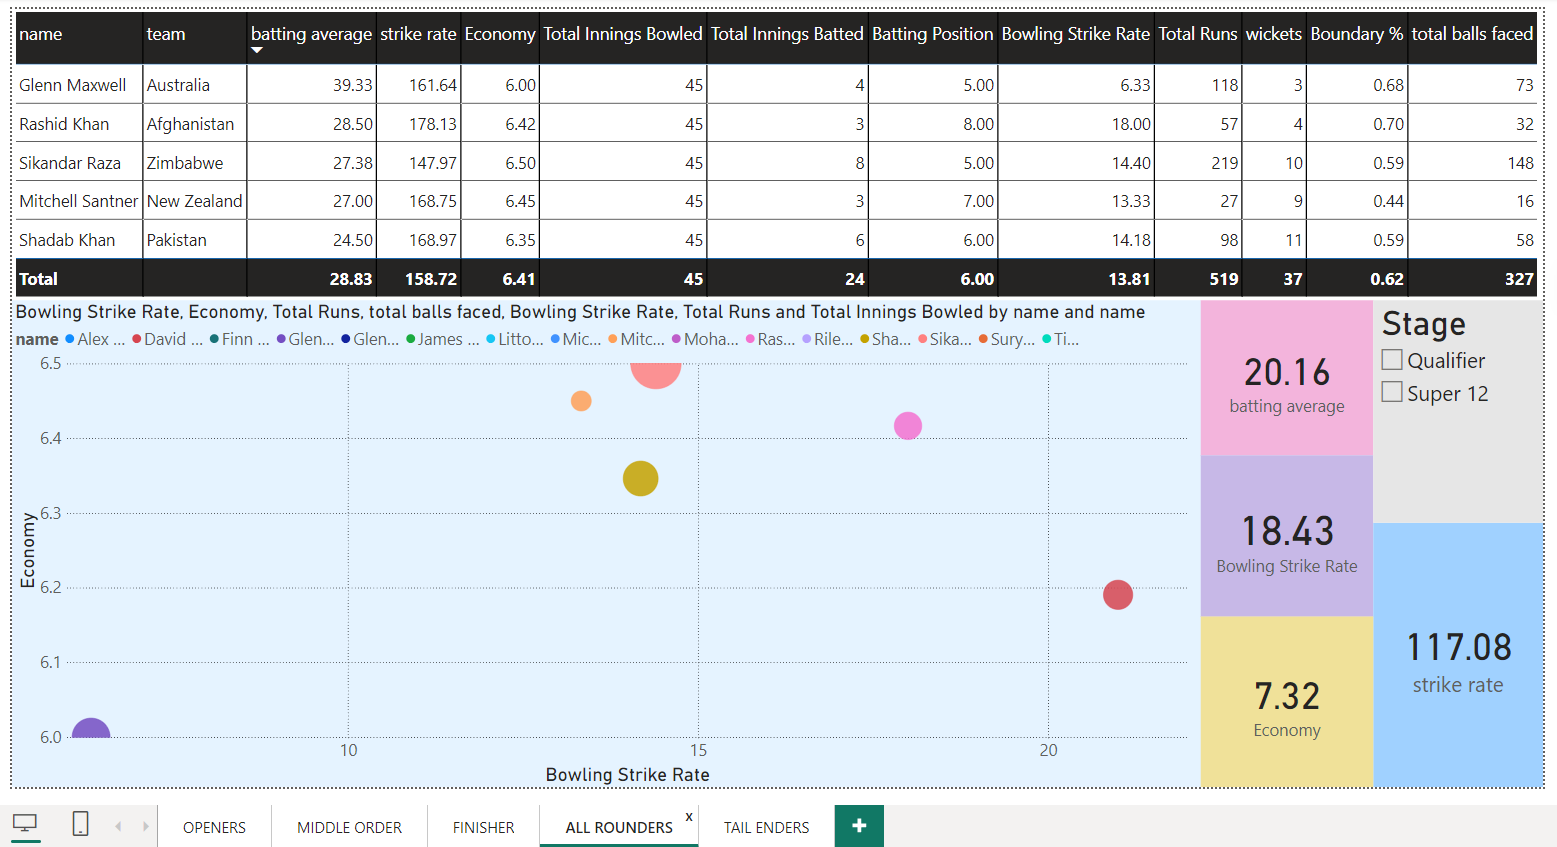

The page's visual inventory and layout, read from the dashboard file:
{"tool":"powerbi","page":{"name":"ALL ROUNDERS","canvas":[2450,1245],"ordinal":3},"visuals":[{"type":"tableEx","fields":{"Values":["player summary.name","player summary.team","Key Measure.batting average","Key Measure.strike rate","Key Measure.Economy","Key Measure.Total Innings Bowled","Key Measure.Total Innings Batted","Key Measure.Batting Position","Key Measure.Bowling Strike Rate","Key Measure.Total Runs","Key Measure.wickets","Key Measure.Boundary %"]},"box":[0,0,2450,466],"z":0},{"type":"scatterChart","fields":{"Category":["player summary.name"],"Y":["Key Measure.Economy"],"X":["Key Measure.Bowling Strike Rate"],"Series":["player summary.name"],"Size":["Key Measure.Total Runs"]},"box":[0,466,1902,780],"z":1000},{"type":"card","fields":{"Values":["Key Measure.batting average"]},"box":[1902,466,276,248],"z":2000},{"type":"card","fields":{"Values":["Key Measure.Bowling Strike Rate"]},"box":[1902,714,276,258],"z":3000},{"type":"card","fields":{"Values":["Key Measure.strike rate"]},"box":[2178,822,272,424],"z":4000},{"type":"card","fields":{"Values":["Key Measure.Economy"]},"box":[1902,972,276,274],"z":5000},{"type":"slicer","fields":{"Values":["match summary.Stage"]},"box":[2178,466,272,356],"z":6000}]}

Visuals, with their boxes on the page's 2450x1245 design canvas (x1, y1, x2, y2). These are canvas units, not pixel positions in the 1557x847 screenshot, which may show the page scaled, cropped or inside an application window:
tableEx - player summary.name x player summary.team: pyautogui.locateOnScreen(0, 0, 2450, 466)
scatterChart - player summary.name x Key Measure.Economy: pyautogui.locateOnScreen(0, 466, 1902, 1246)
card - Key Measure.batting average: pyautogui.locateOnScreen(1902, 466, 2178, 714)
card - Key Measure.Bowling Strike Rate: pyautogui.locateOnScreen(1902, 714, 2178, 972)
card - Key Measure.strike rate: pyautogui.locateOnScreen(2178, 822, 2450, 1246)
card - Key Measure.Economy: pyautogui.locateOnScreen(1902, 972, 2178, 1246)
slicer - match summary.Stage: pyautogui.locateOnScreen(2178, 466, 2450, 822)
